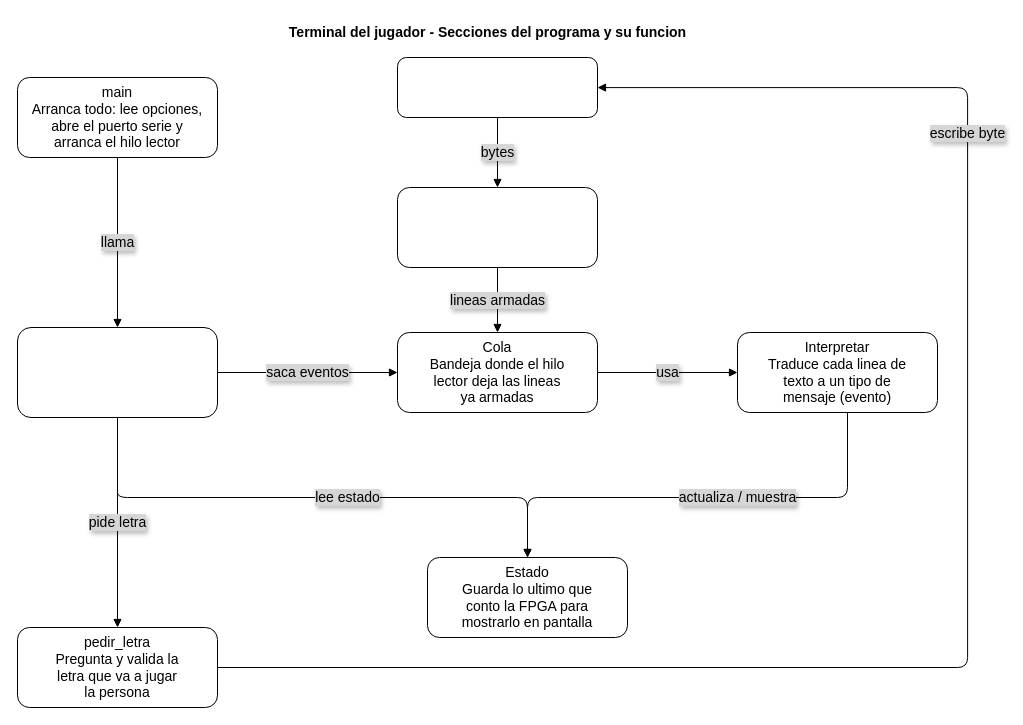
Some shapes in this 1023 by 725 pixel diagram are drawn without their labels. The shapes that lost their labels are listed below. From the top down, each one's box as (x1, y1, x2, y2) in pixels, then its label:
(396, 56, 598, 118): Puerto serie (conexion con la FPGA)
(396, 186, 598, 268): lector Hilo aparte: lee bytes todo el tiempo y arma lineas completas
(16, 326, 218, 418): jugar Ciclo principal: revisa la cola y le pide letras al jugador por turnos
